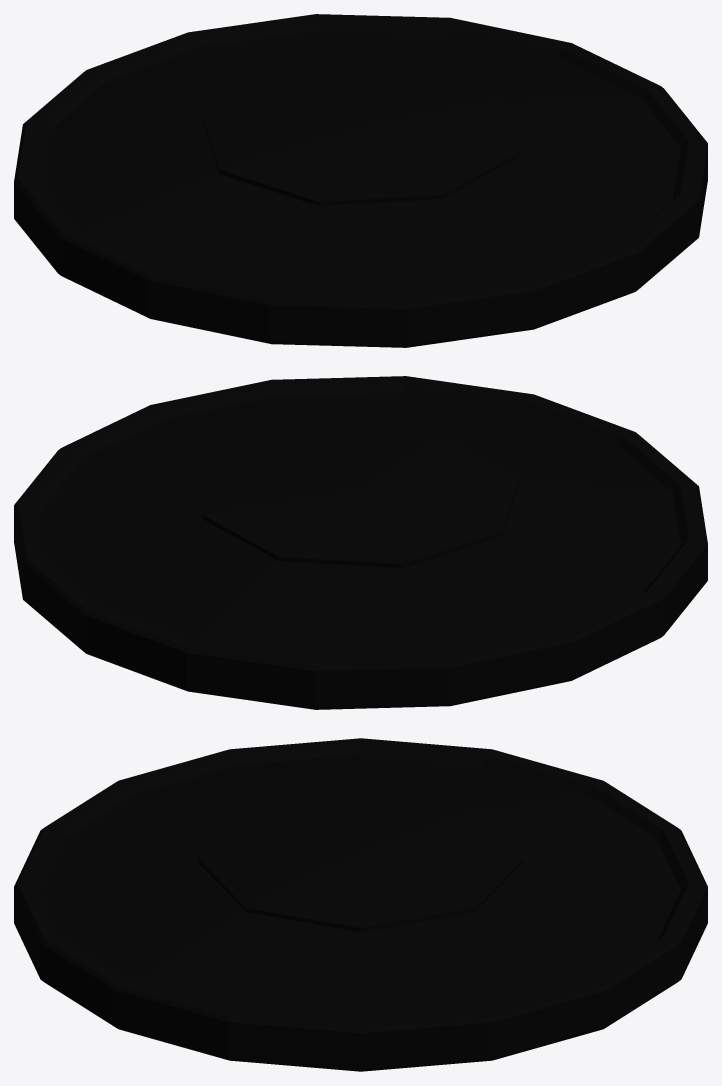
Rendered from ShieldModel.fbx.
3 renders of one model, top to bottom at view 1: azimuth 30°, elevation 25°; view 2: azimuth 150°, elevation 25°; view 3: azimuth 270°, elevation 25°, orthographic.
Parts seen in each view (by area): view 1: shield; view 2: shield; view 3: shield.
Part boxes in pixels (x1,y1,x2,y2): shield: (14, 14, 707, 347); shield: (14, 376, 707, 709); shield: (14, 738, 707, 1071).
Bounding box in the file's own units: 107 × 19.34 × 107.
Materials: 1 (1 with a texture image).
